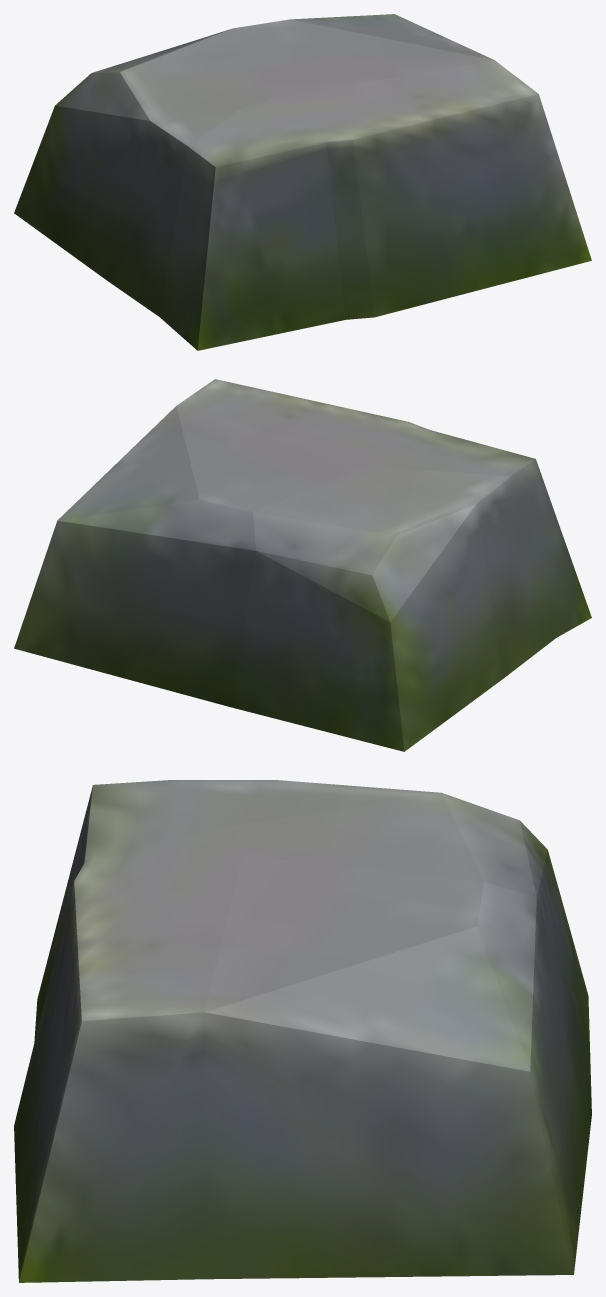
File: sn_pebble_square_3.glb
The picture shows the model from 3 angles, top to bottom: view 1: azimuth 30°, elevation 25°; view 2: azimuth 150°, elevation 25°; view 3: azimuth 270°, elevation 25°; orthographic projection. The views are drawn at different scales.
Parts seen in each view (by area): view 1: Pebble_Square_3; view 2: Pebble_Square_3; view 3: Pebble_Square_3.
Boxes of the visible parts, x1=… form: Pebble_Square_3: x1=14, y1=14, x2=591, y2=350; Pebble_Square_3: x1=14, y1=379, x2=591, y2=751; Pebble_Square_3: x1=14, y1=780, x2=591, y2=1282.
Bounding box in the file's own units: 0.3733 × 0.1589 × 0.3187.
1 material, 1 textured.
